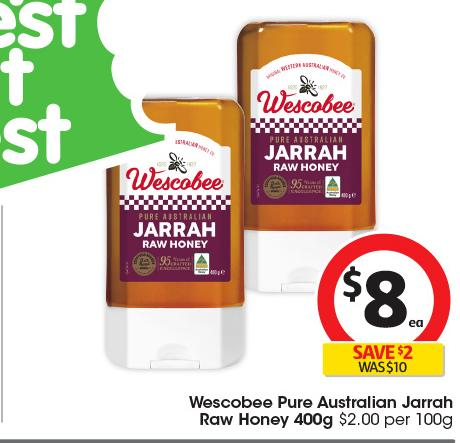description_block: (178, 390, 458, 436)
price_main: (308, 232, 453, 340)
product_image_block: (82, 15, 318, 380)
promo_text_block: (312, 338, 449, 380)
unit_price_block: (334, 410, 454, 431)
